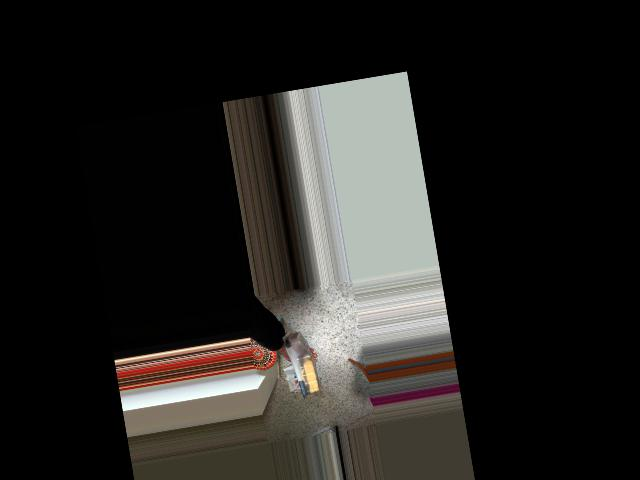cheese: (282, 331, 322, 398)
